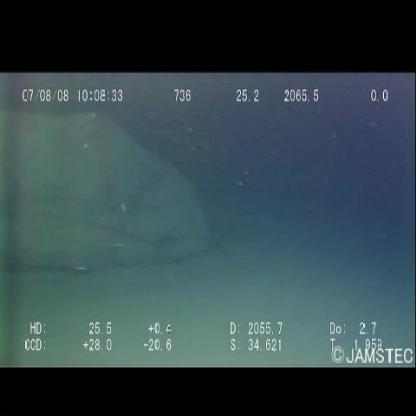Rác: (1, 103, 224, 285)
